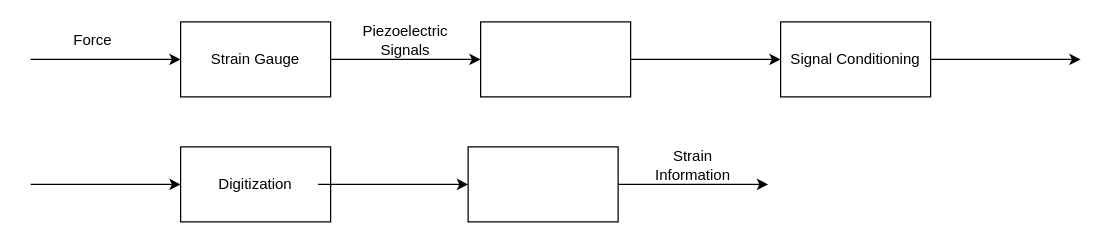
Image size: 1113x244. Some labels were removed from this diagram. The shapes that lost their labels are listed below. From the top down, each one's centre as x and y in pixels, then its label:
point (555, 59): Instrumentation Amplifier
point (542, 184): MCU + logging system
